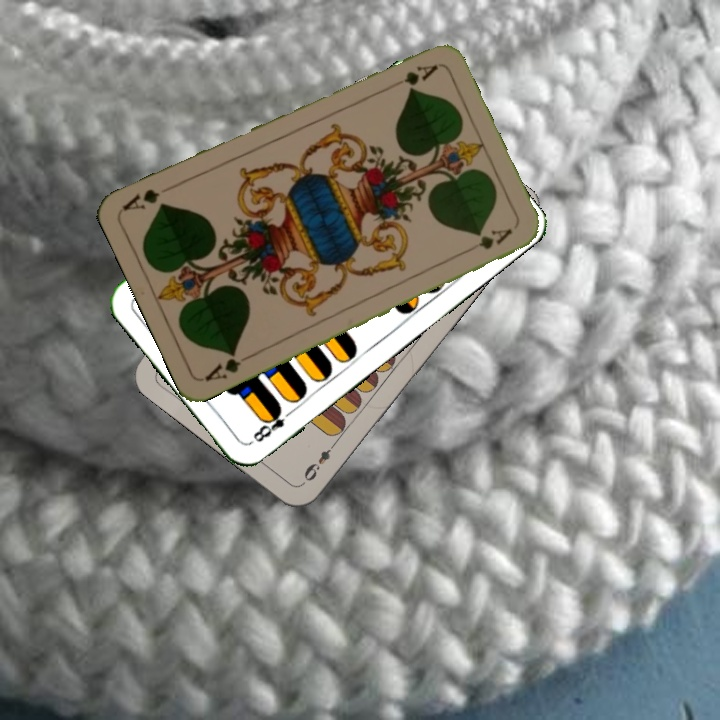E8: (246, 402, 297, 446)
E9: (299, 436, 340, 484)
GA: (200, 347, 255, 384), (399, 60, 441, 88)
